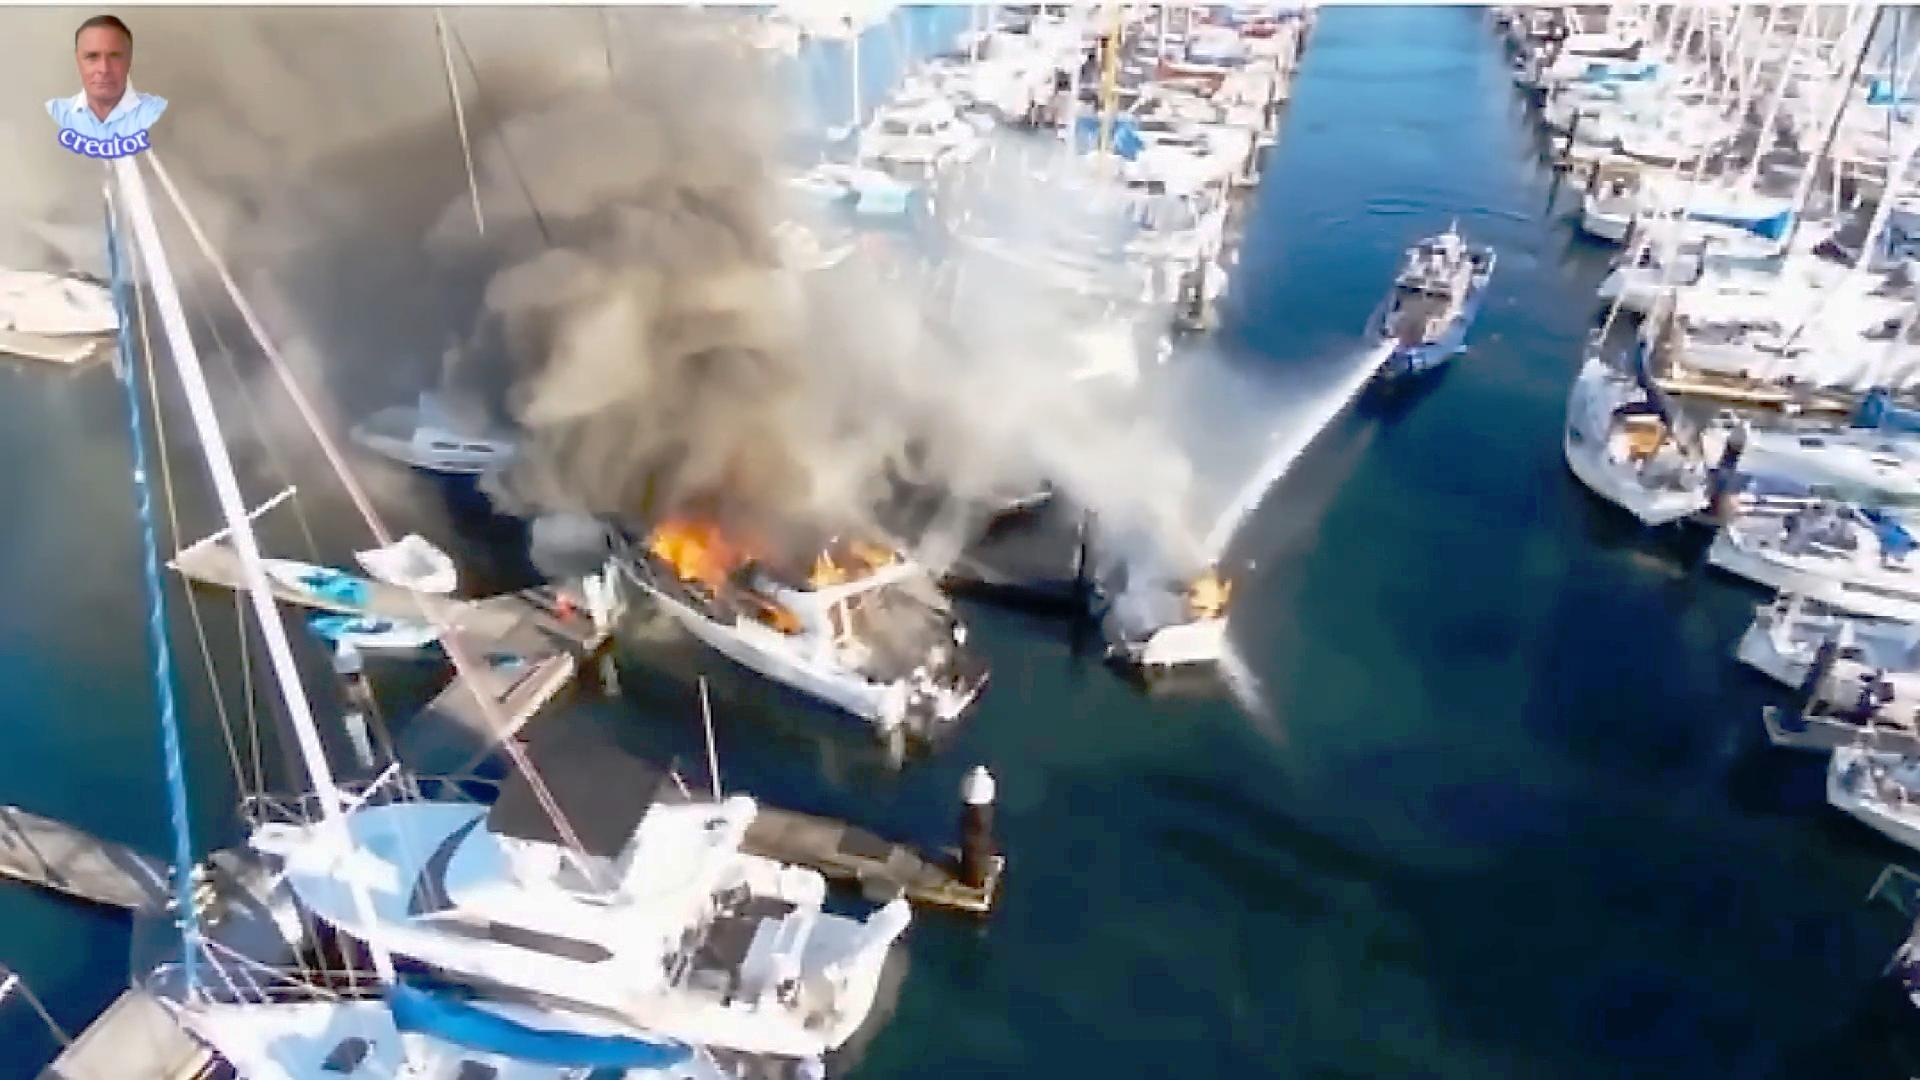smoke: (284, 30, 702, 335)
